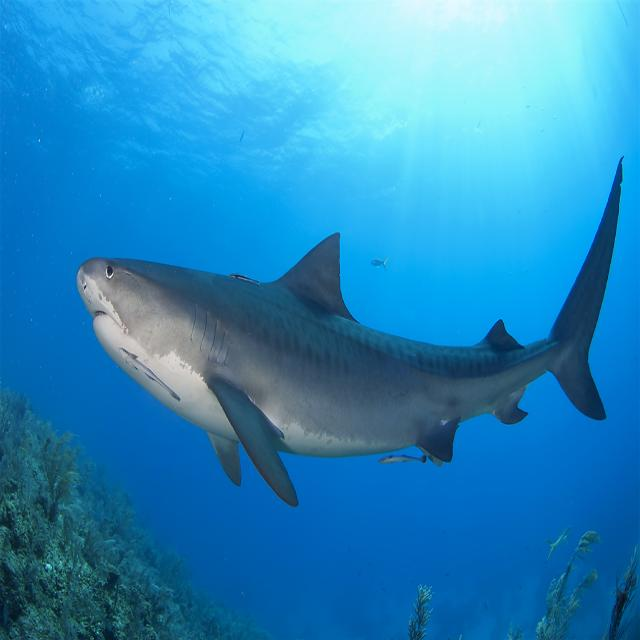shark: (76, 161, 622, 505)
